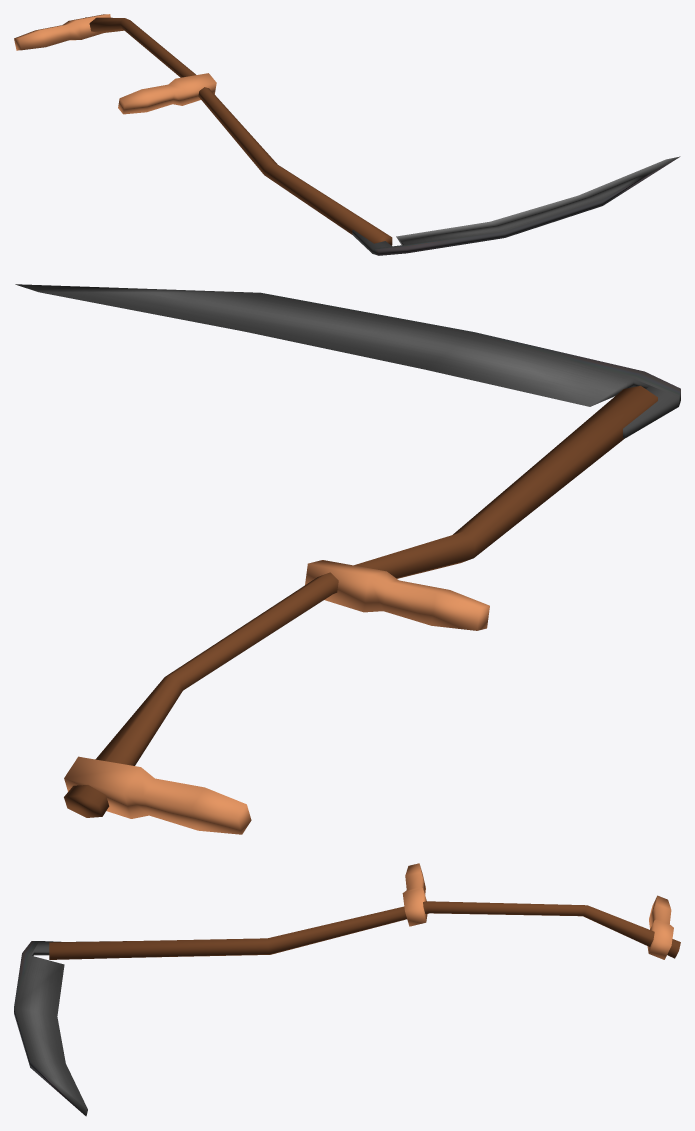
Rendered from 20453773-3117-4990-8b3b-f10309becd2c.glb.
The picture shows the model from 3 angles, top to bottom: view 1: azimuth 30°, elevation 25°; view 2: azimuth 150°, elevation 25°; view 3: azimuth 270°, elevation 25°; orthographic projection. The views are drawn at different scales.
Parts seen in each view (by area): view 1: Scythe; view 2: Scythe; view 3: Scythe.
Part boxes in pixels (bbox=[...]): Scythe: bbox=[14, 14, 680, 255]; Scythe: bbox=[15, 284, 680, 834]; Scythe: bbox=[14, 863, 680, 1116].
Bounding box in the file's own units: 1.58 × 0.1926 × 2.13.
Materials: 2 (2 with a texture image).
